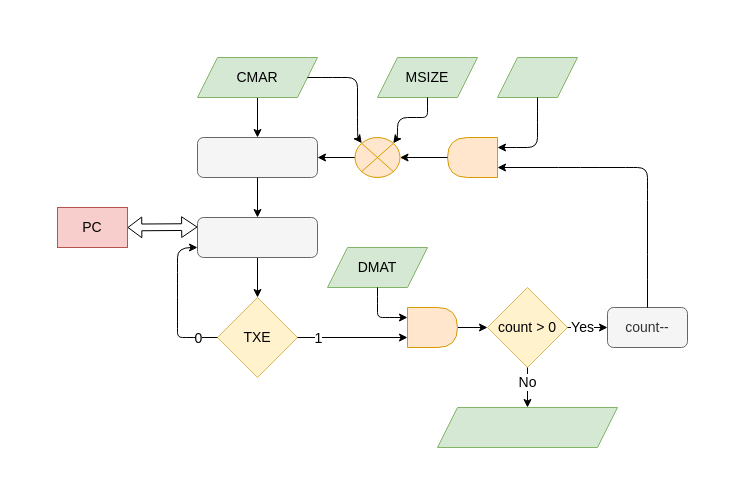
This 754x504 diagram has some shape labels left out. Each missing label, with the box of its shape:
Channel 4: (196, 136, 318, 178)
DMA1_handler: (436, 406, 618, 448)
MINC: (496, 56, 578, 98)
USART_Tx: (196, 216, 318, 258)
